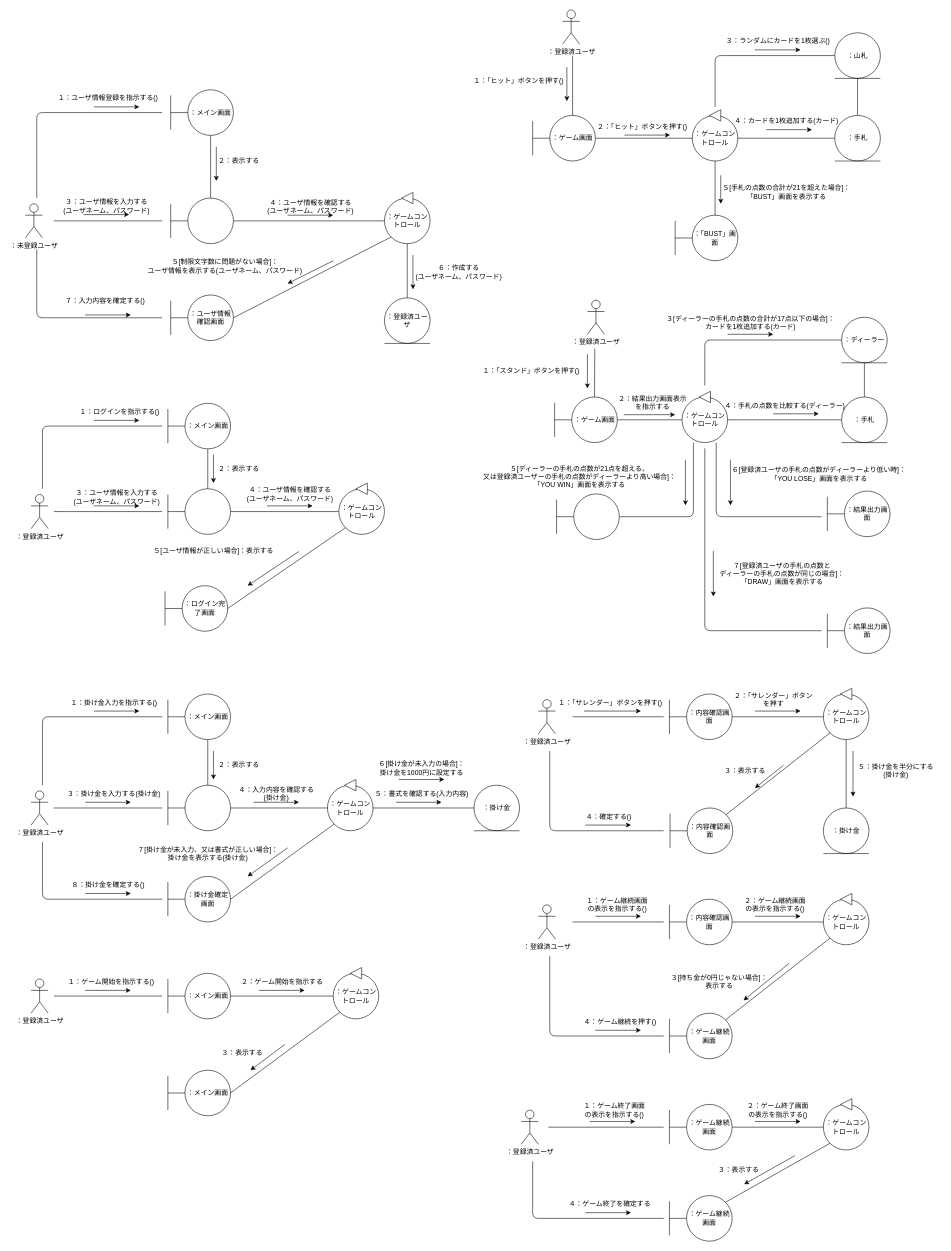
The diagram is 951 pixels wide and 1251 high, and some of its shapes have lost their labels. The shapes that lost their labels are listed below. From the top down, each one's box as (x1, y1, x2, y2) in pixels, then its label:
(187, 198, 233, 244): ：ユーザ情報登録画面
(184, 488, 231, 534): ：ログイン画面
(573, 493, 619, 540): :結果出力画面
(184, 785, 231, 831): ：掛け金入力画面
